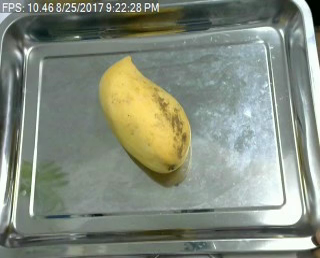Mango: (95, 55, 195, 174)
